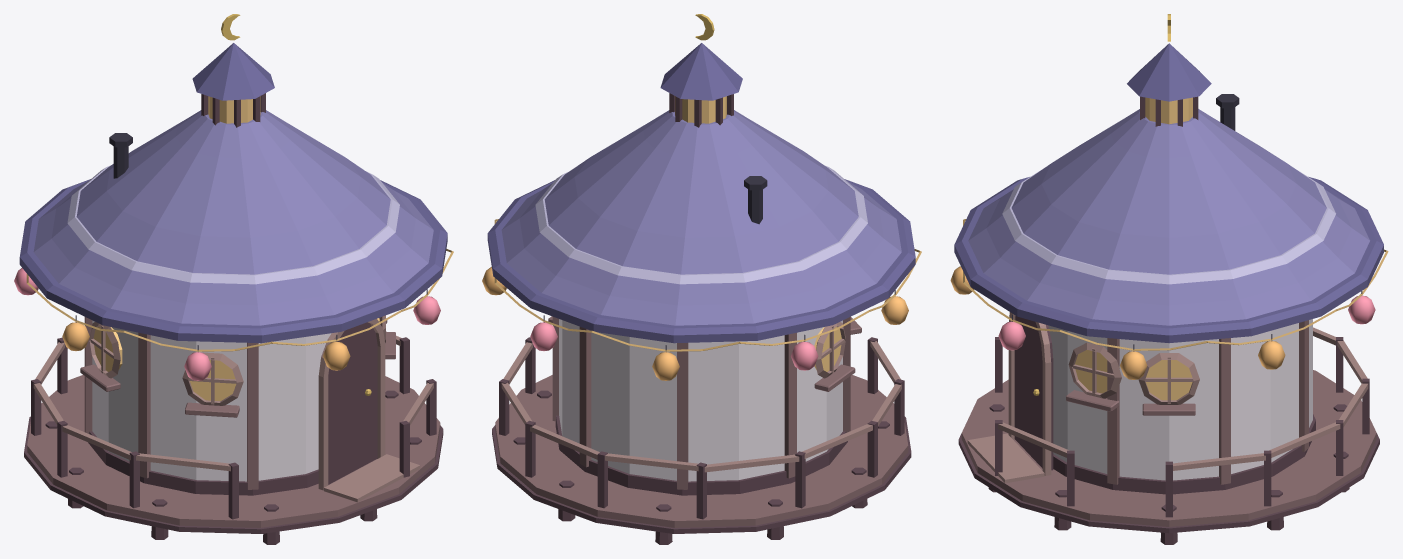
Rendered from lake_house.glb.
3 renders of one model, left to right at view 1: azimuth 30°, elevation 25°; view 2: azimuth 150°, elevation 25°; view 3: azimuth 270°, elevation 25°, orthographic.
Visible parts, largest first — view 1: lake_house; view 2: lake_house; view 3: lake_house.
Part boxes in pixels (x1,y1,x2,y2): lake_house: (14, 14, 453, 544); lake_house: (482, 14, 921, 544); lake_house: (950, 14, 1388, 544).
Bounding box in the file's own units: 4.06 × 4.67 × 4.12.
